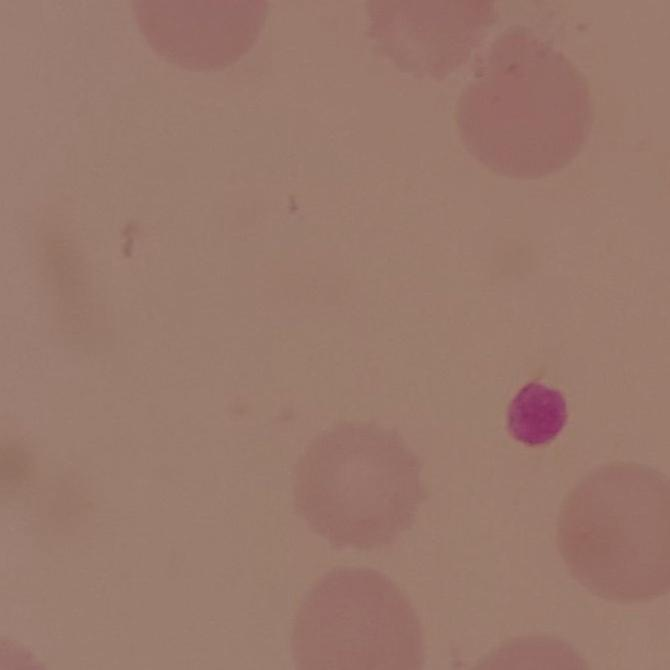Uninfected: (452, 32, 598, 179), (295, 414, 423, 551), (554, 464, 670, 606), (298, 569, 422, 670)
